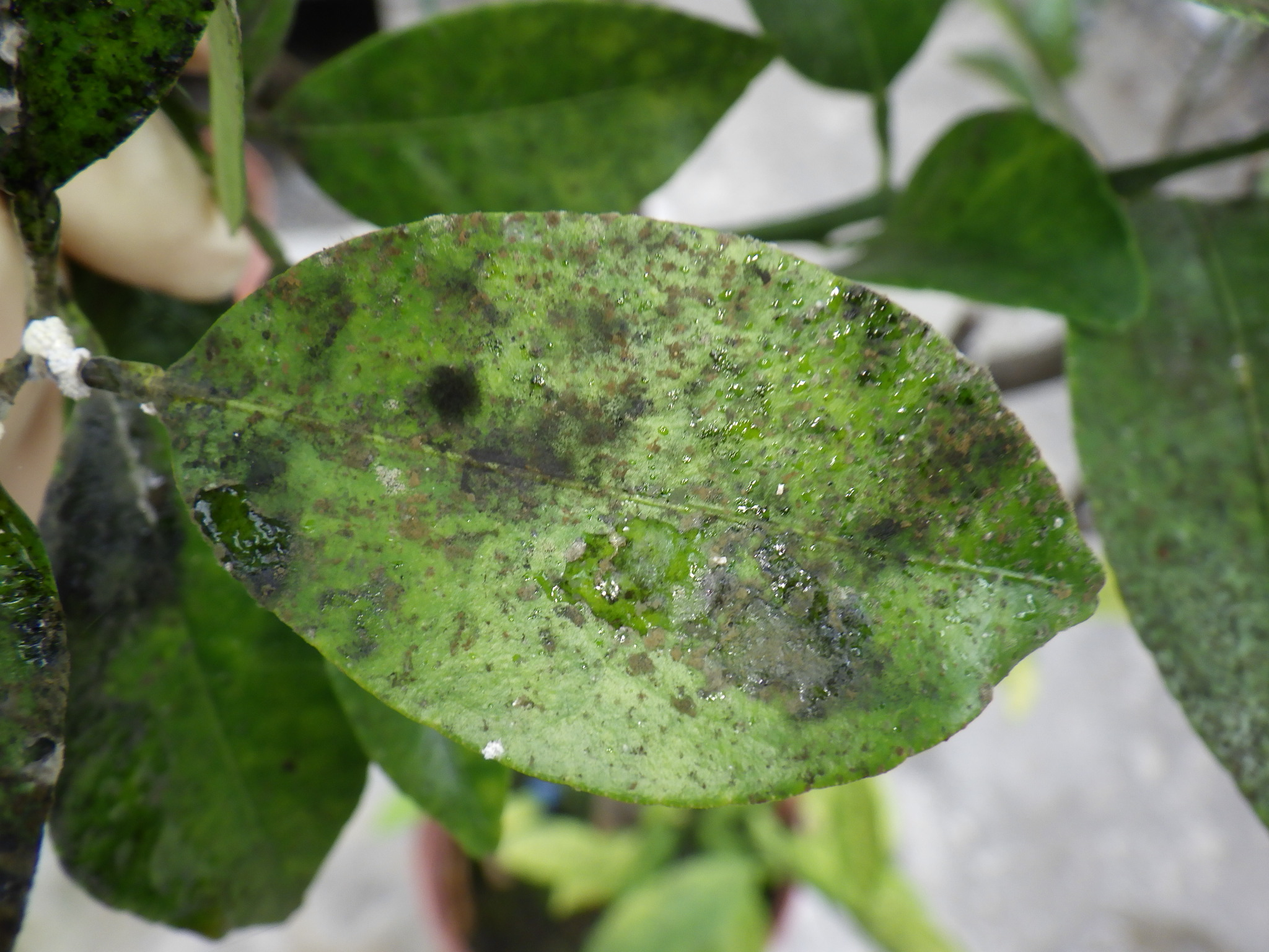Sooty_Mold: (95, 212, 1100, 805)
